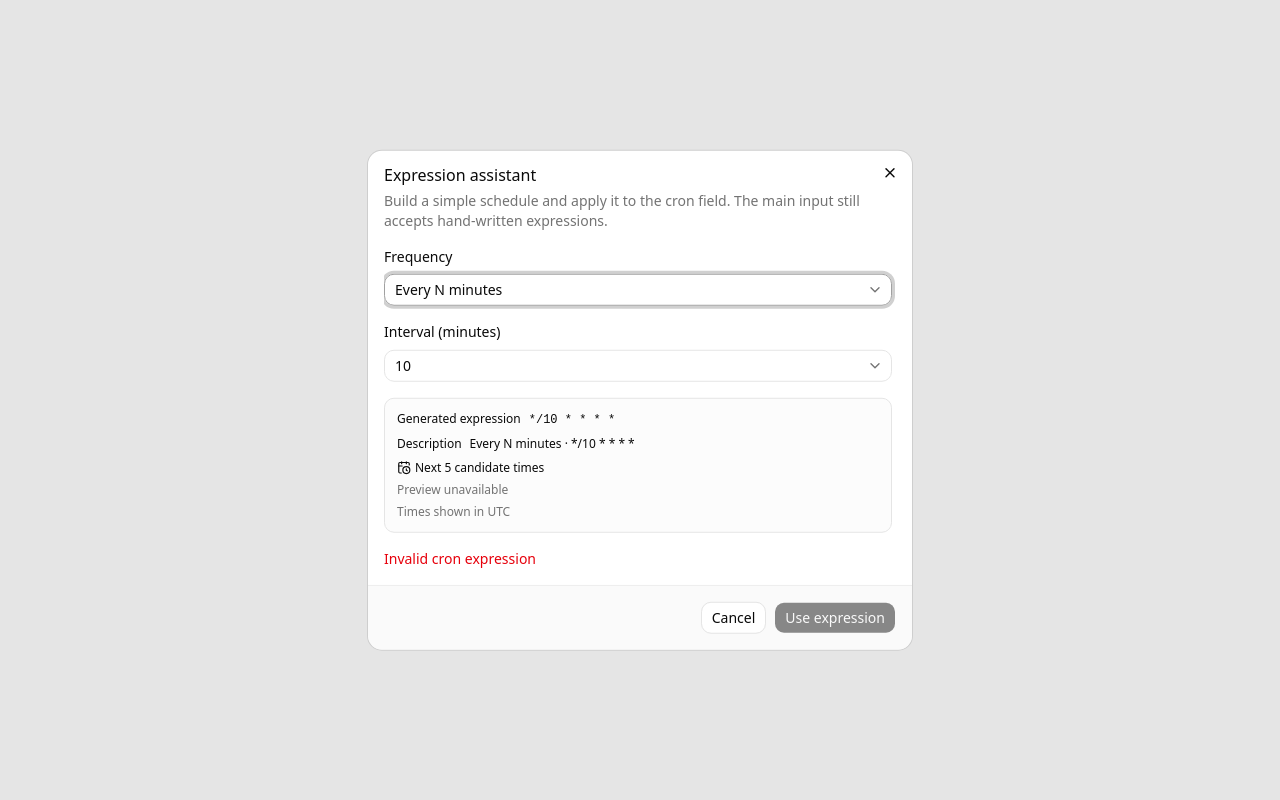
it: CronExpressionAssistantDialog › updates only the local draft while changing controls
The width and height of the screenshot is (1280, 800).
expect the text "*/10 * * * *" is shown: met, box [529, 411, 615, 427]
Press Enter in the dropdown named "Frequency", box [384, 274, 892, 306]
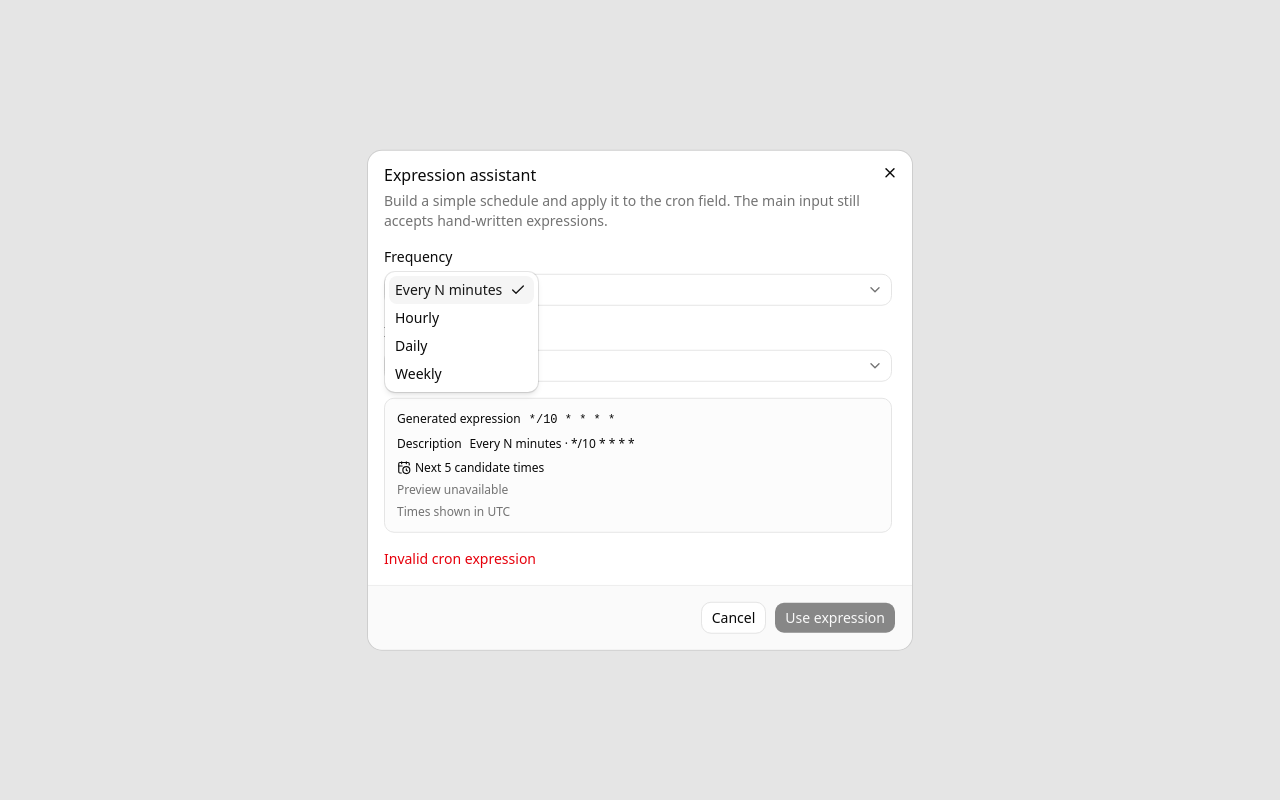
expect the option "Daily" is shown: met
Click the option "Daily" at (411, 346), box [395, 336, 428, 355]
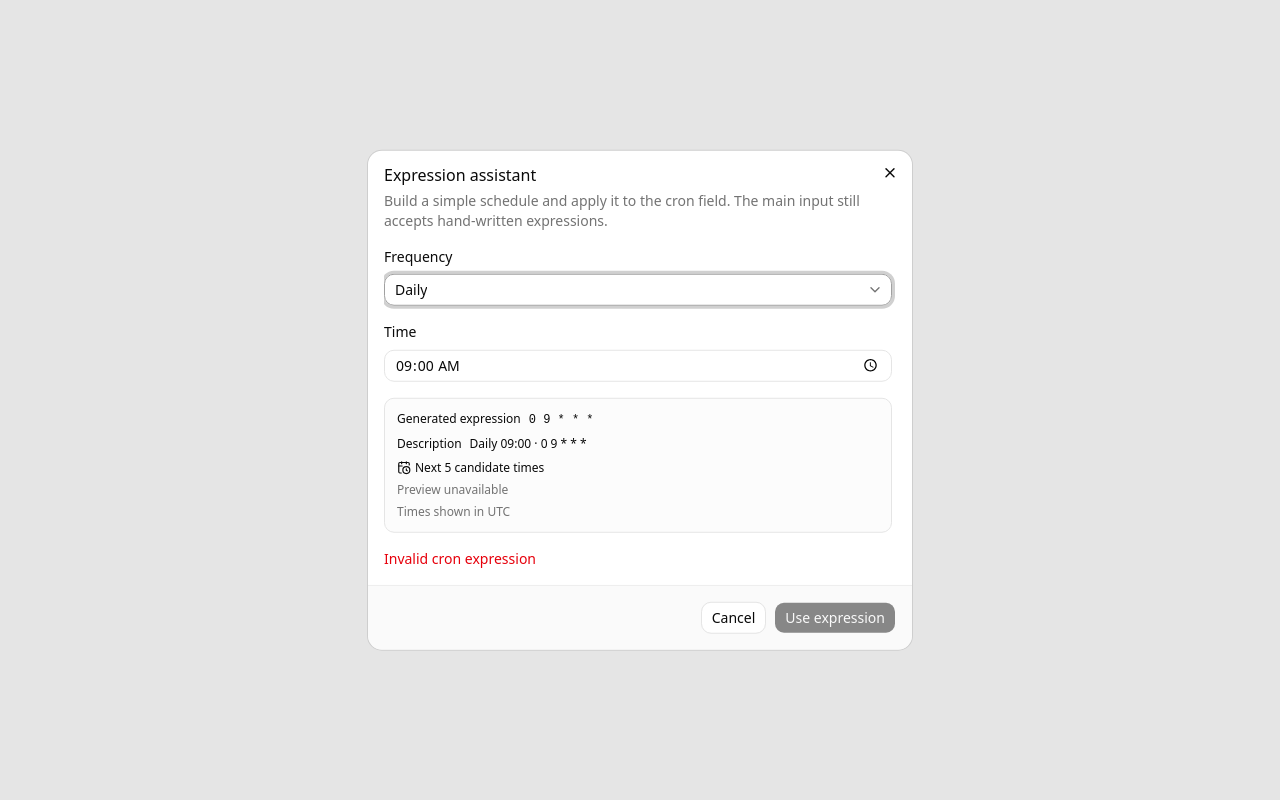
expect the text "0 9 * * *" is shown: met, box [529, 411, 594, 427]
